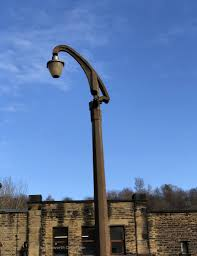light_pole: (61, 46, 119, 256)
